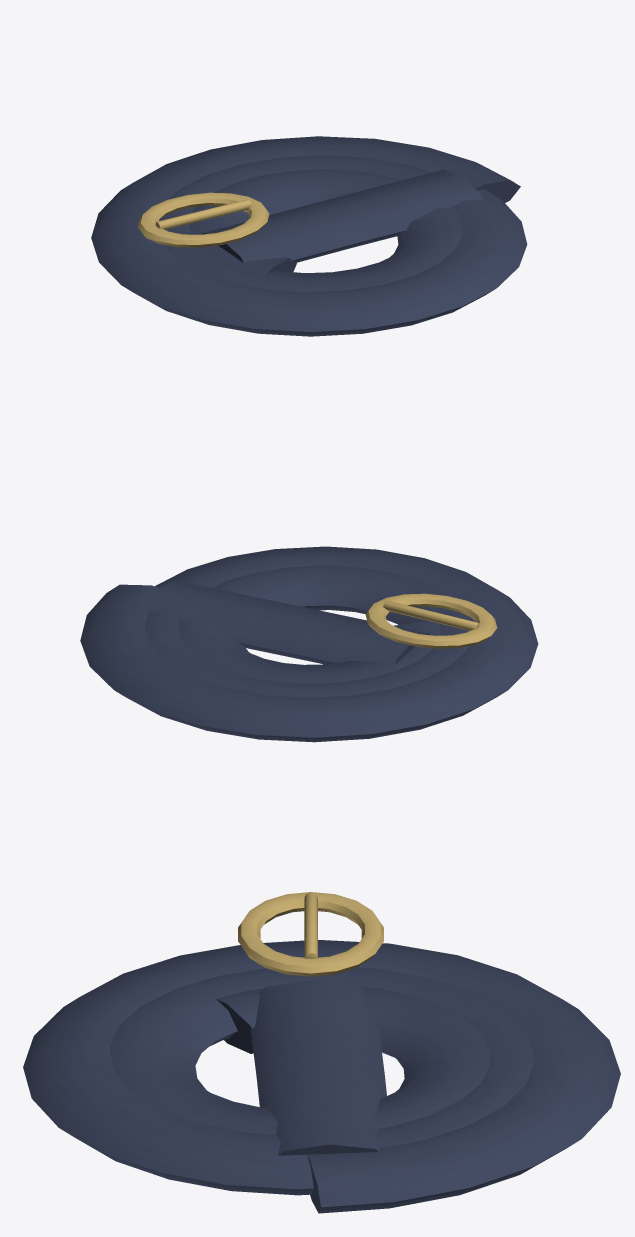
File: pf_belt_coiled.glb
3 renders of one model, top to bottom at view 1: azimuth 30°, elevation 25°; view 2: azimuth 150°, elevation 25°; view 3: azimuth 270°, elevation 25°, orthographic. The views are drawn at different scales.
Visible parts, largest first — view 1: pf_belt_coiled_body; view 2: pf_belt_coiled_body; view 3: pf_belt_coiled_body.
Part boxes in pixels (x1,y1,x2,y2): pf_belt_coiled_body: (91,136,527,336); pf_belt_coiled_body: (80,546,538,742); pf_belt_coiled_body: (23,892,620,1213).
Bounding box in the file's own units: 0.1302 × 0.036 × 0.1277.
Materials: 3 (1 with a texture image).
